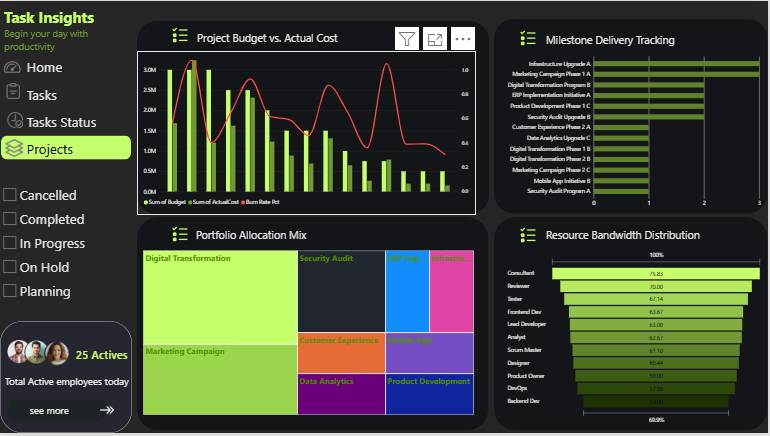

The page's visual inventory and layout, read from the dashboard file:
{"tool":"powerbi","page":{"name":"Projects","canvas":[1920,1080],"ordinal":3},"visuals":[{"type":"shape","box":[0,800,330,280],"z":0},{"type":"shape","box":[367.5,50,855,485],"z":1000},{"type":"textbox","box":[10.8,15.1,345.6,140.4],"z":2000},{"type":"group","id":"g1","title":"Group 1","box":[2.5,110,327.5,267.5],"z":3000},{"type":"card","fields":{"Values":["_measures.active_employees_label"]},"box":[168.1,852.5,174.4,67.9],"z":3000,"group":"g2"},{"type":"group","id":"g2","title":"Group 6","box":[12.5,852.5,330,197.5],"z":4000},{"type":"pageNavigator","box":[2.5,110,327.5,267.5],"z":5000,"group":"g1"},{"type":"image","box":[5,825,177.2,102],"z":5000},{"type":"textbox","box":[12.5,934.6,318.4,40.5],"z":5000,"group":"g2"},{"type":"shape","box":[1236,46,684,490],"z":6000},{"type":"image","box":[5.6,120.7,52,45.5],"z":6000,"group":"g1"},{"type":"shape","box":[20,997.2,246.6,52.8],"z":6000,"group":"g2"},{"type":"lineClusteredColumnComboChart","fields":{"Category":["Projects.ProjectName"],"Y":["Sum(Projects.Budget)","Sum(Projects.ActualCost)"],"Y2":["_measures.Burn Rate Pct"]},"box":[406,156,784,356],"z":7000},{"type":"image","box":[9.6,324,51.5,45],"z":7000,"group":"g1"},{"type":"image","box":[245.3,1004.9,44.8,35.2],"z":7000,"group":"g2"},{"type":"textbox","box":[405,72.5,547.5,60],"z":8000},{"type":"image","box":[11.7,252.7,51.5,45],"z":8000,"group":"g1"},{"type":"image","box":[7.6,181.3,51.5,45],"z":9000,"group":"g1"},{"type":"shape","box":[1236,540,684,534],"z":9000},{"type":"shape","box":[368,540,854,534],"z":10000},{"type":"textbox","box":[1267.5,62.5,607.5,47.5],"z":11000},{"type":"textbox","box":[1257.5,565,545,45],"z":12000},{"type":"textbox","box":[405,565,587.5,45],"z":13000},{"type":"clusteredBarChart","fields":{"Category":["Projects.ProjectName"],"Y":["_measures.Delayed Milestones"]},"box":[1268,118,652,418],"z":14000},{"type":"treemap","fields":{"Group":["Projects.Category"],"Values":["CountNonNull(Projects.ProjectName)"]},"box":[388,610,834,464],"z":15000},{"type":"funnel","fields":{"Category":["Project_Assignments.Role"],"Y":["_measures.Average Allocation Pct"]},"box":[1252,610,668,464],"z":16000},{"type":"slicer","fields":{"Values":["Projects.Status"]},"box":[0,452,328,348],"z":17000}]}

Visuals, with their boxes on the page's 1920x1080 design canvas (x1, y1, x2, y2). These are canvas units, not pixel positions in the 770x436 screenshot, which may show the page scaled, cropped or inside an application window:
shape: locate(0, 800, 330, 1080)
shape: locate(368, 50, 1222, 535)
textbox: locate(11, 15, 356, 156)
"Group 1" group: locate(2, 110, 330, 378)
card - _measures.active_employees_label: locate(168, 852, 342, 920)
"Group 6" group: locate(12, 852, 342, 1050)
pageNavigator: locate(2, 110, 330, 378)
image: locate(5, 825, 182, 927)
textbox: locate(12, 935, 331, 975)
shape: locate(1236, 46, 1920, 536)
image: locate(6, 121, 58, 166)
shape: locate(20, 997, 267, 1050)
lineClusteredColumnComboChart - Projects.ProjectName x Sum(Projects.Budget): locate(406, 156, 1190, 512)
image: locate(10, 324, 61, 369)
image: locate(245, 1005, 290, 1040)
textbox: locate(405, 72, 952, 132)
image: locate(12, 253, 63, 298)
image: locate(8, 181, 59, 226)
shape: locate(1236, 540, 1920, 1074)
shape: locate(368, 540, 1222, 1074)
textbox: locate(1268, 62, 1875, 110)
textbox: locate(1258, 565, 1802, 610)
textbox: locate(405, 565, 992, 610)
clusteredBarChart - Projects.ProjectName x _measures.Delayed Milestones: locate(1268, 118, 1920, 536)
treemap - Projects.Category x CountNonNull(Projects.ProjectName): locate(388, 610, 1222, 1074)
funnel - Project_Assignments.Role x _measures.Average Allocation Pct: locate(1252, 610, 1920, 1074)
slicer - Projects.Status: locate(0, 452, 328, 800)
